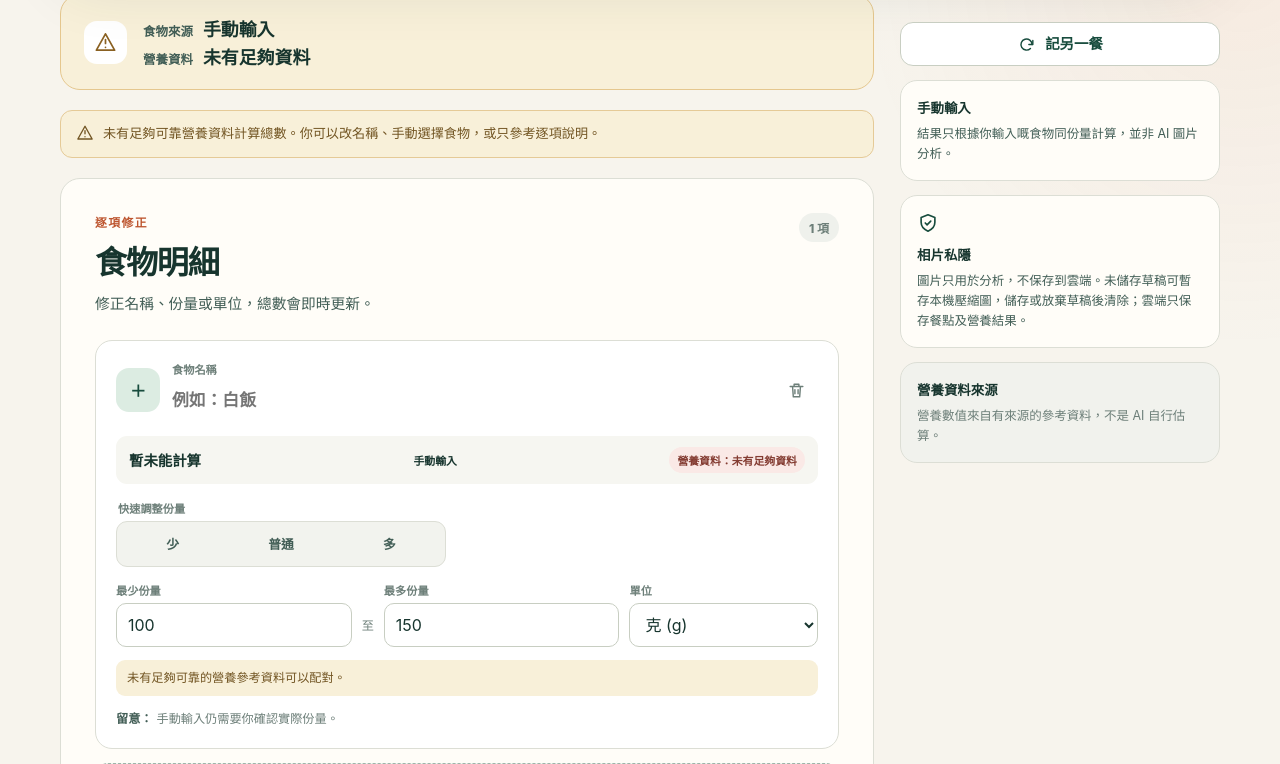
it: recognition provenance in the meal editor › identifies a manual meal without inventing an AI confidence score
(page scrolled)
Type "白飯" into the field labelled "食物名稱" at (467, 401), box [172,382,762,420]
(page scrolled)
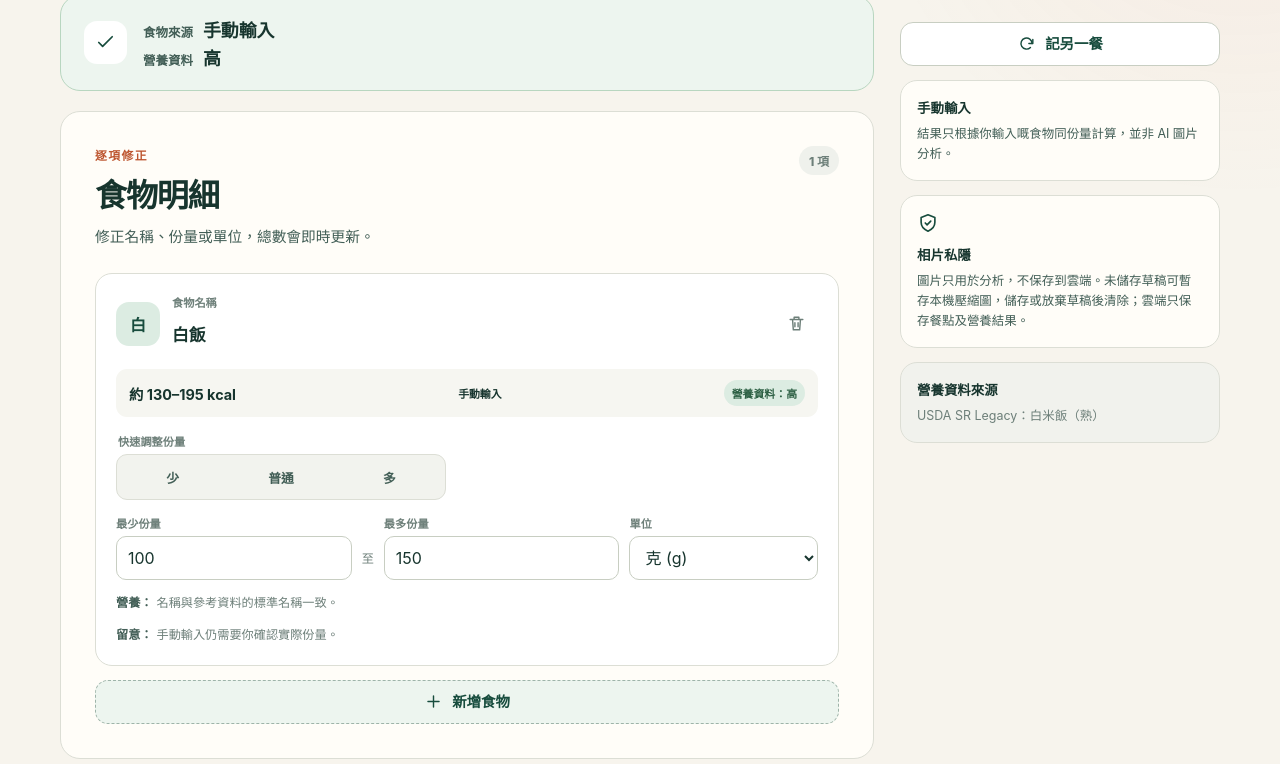
Expected: the text "手動輸入" below "食物名稱" is shown, [458,387,502,401]
Expected: the text "營養資料：高" is shown, [724,380,805,406]
